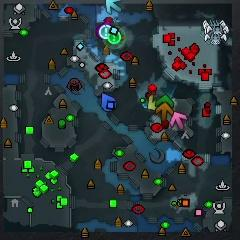Other: (100, 25, 113, 40), (109, 32, 122, 44)
p1: (100, 92, 117, 113)
p3: (94, 21, 112, 40)
x1: (169, 112, 188, 130)
x2: (147, 95, 160, 111)
x3: (105, 0, 123, 15)
x4: (155, 94, 175, 107)
x5: (156, 102, 173, 121)
